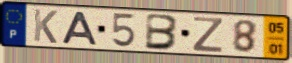5: (111, 11, 138, 48)
8: (231, 19, 259, 55)
A: (60, 11, 100, 47)
B: (143, 12, 181, 52)
K: (32, 8, 59, 45)
Z: (191, 15, 225, 54)
